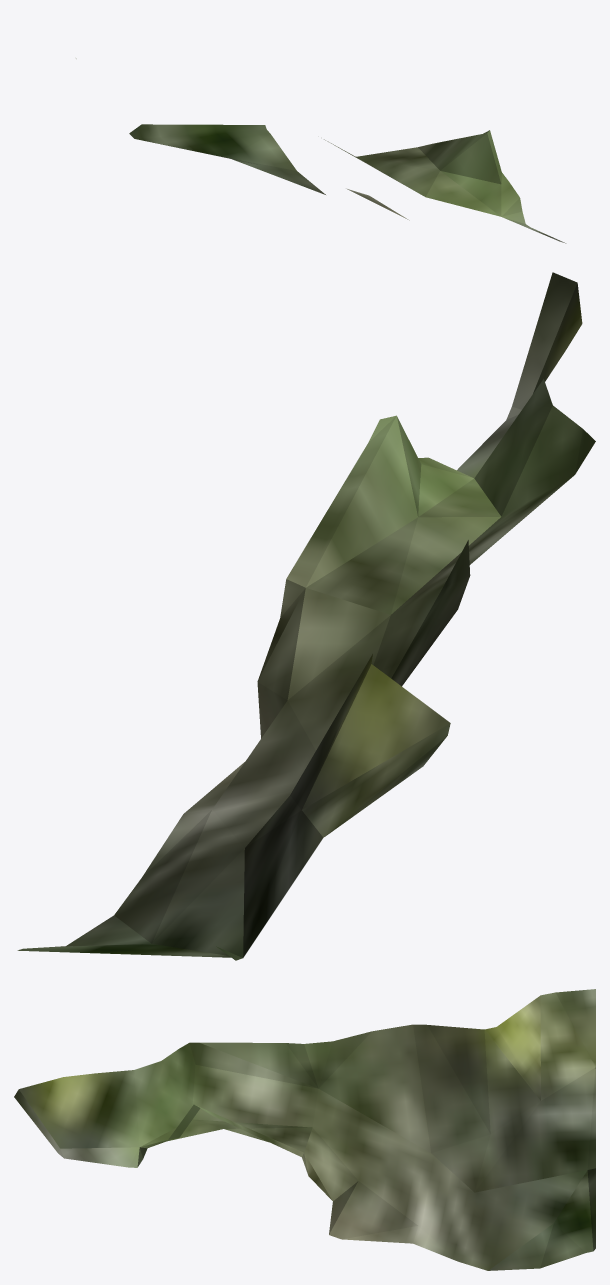
The picture shows the model from 3 angles, top to bottom: view 1: azimuth 30°, elevation 25°; view 2: azimuth 150°, elevation 25°; view 3: azimuth 270°, elevation 25°; orthographic projection. The views are drawn at different scales.
Bounding box in the file's own units: 0.3015 × 0.2266 × 0.687.
Materials: 1 (1 with a texture image).
